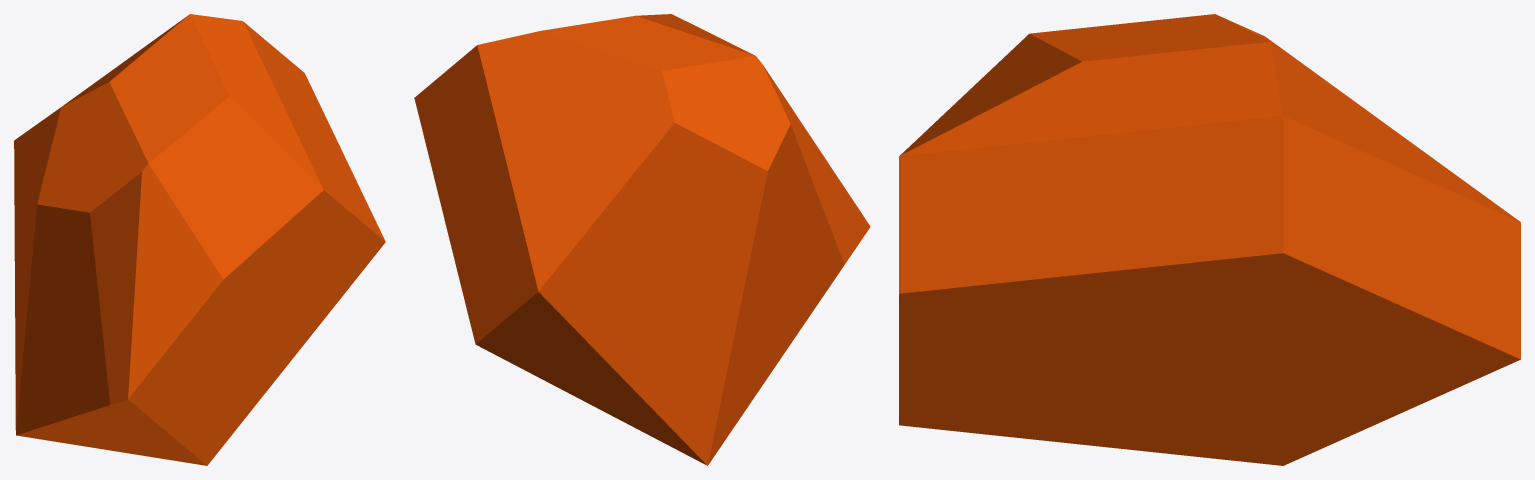
The model's file is tree-autumn-leaves-006.glb.
3 renders of one model, left to right at view 1: azimuth 30°, elevation 25°; view 2: azimuth 150°, elevation 25°; view 3: azimuth 270°, elevation 25°, orthographic. The views are drawn at different scales.
Parts seen in each view (by area): view 1: Circle.021_330; view 2: Circle.021_330; view 3: Circle.021_330.
Part boxes in pixels (box(x1,y1,x2,y2)): Circle.021_330: box(14, 14, 385, 465); Circle.021_330: box(414, 14, 870, 465); Circle.021_330: box(899, 14, 1520, 465).
Bounding box in the file's own units: 0.3144 × 0.3682 × 0.3837.
